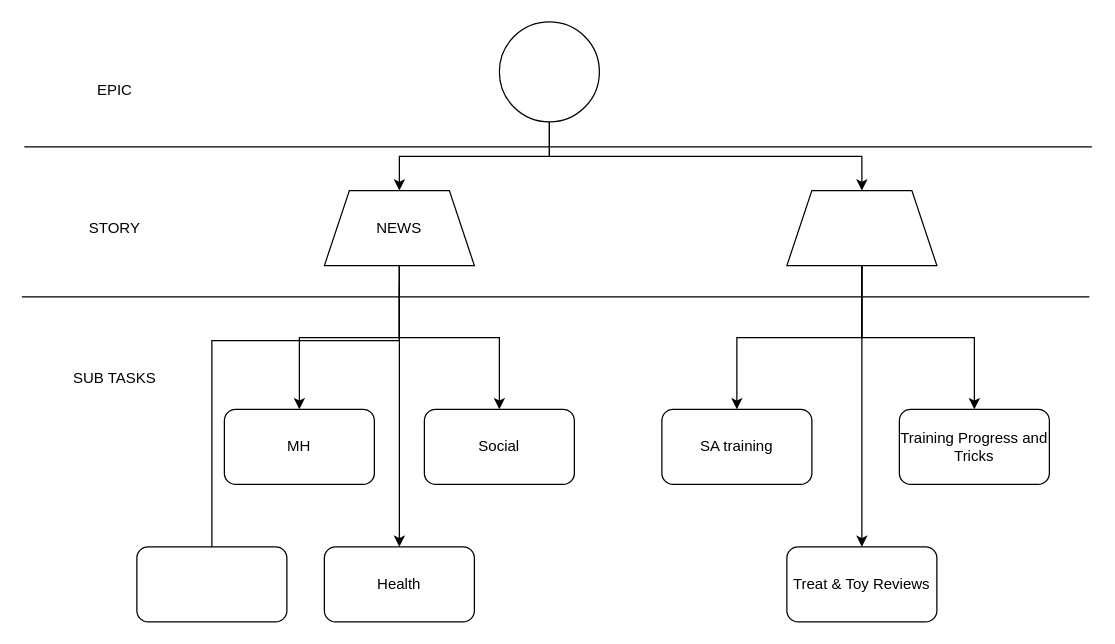
The diagram is 1115 pixels wide and 644 high, and some of its shapes have lost their labels. The box of each missing label's shape, as (x1, y1, x2, y2) in pixels:
CONTENT: (498, 21, 599, 122)
Huxley News: (786, 189, 937, 266)
Work: (136, 546, 287, 622)
